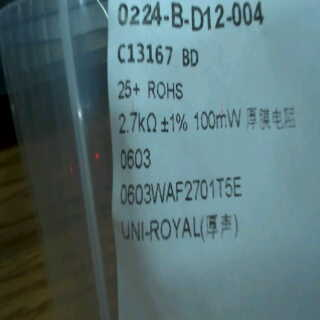2.7kR: (115, 107, 158, 141)
